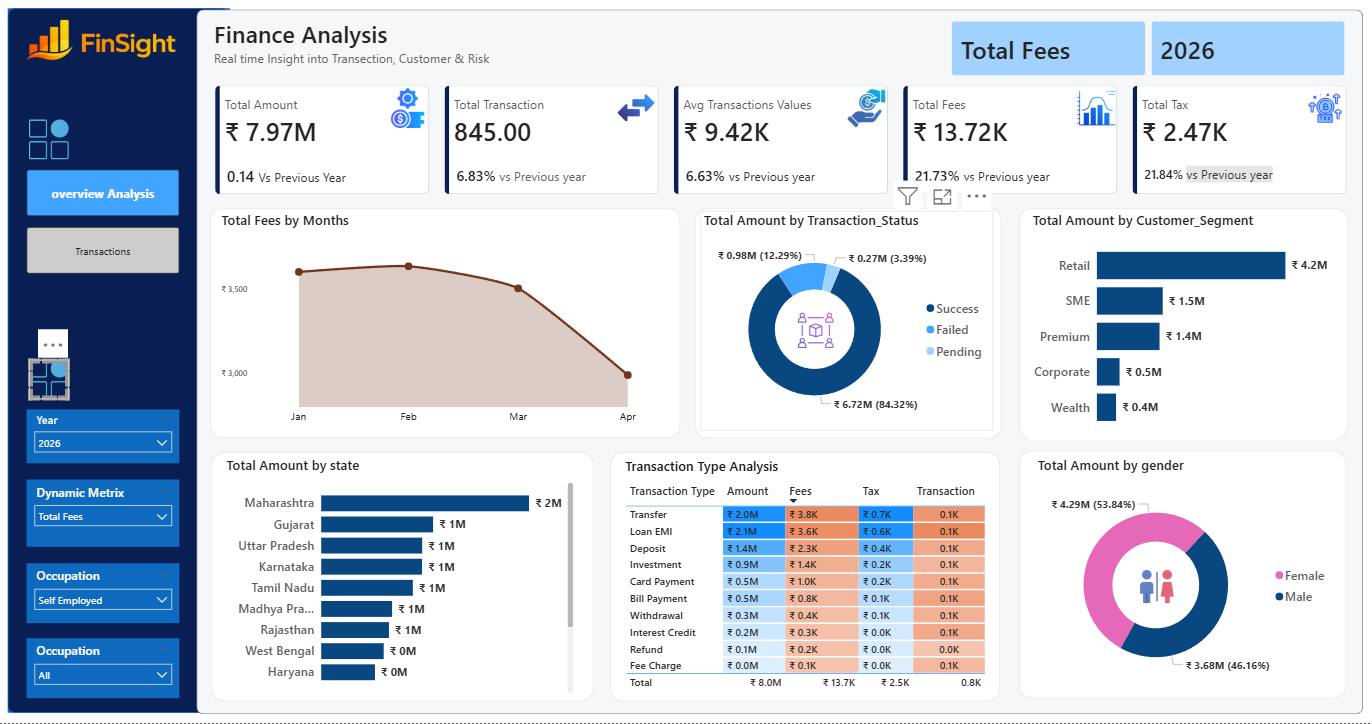

What the dashboard file says about the page in this screenshot:
{"tool":"powerbi","page":{"name":"overview Analysis","canvas":[1800,950],"ordinal":0},"visuals":[{"type":"shape","box":[11.7,15,290,921.7],"z":0},{"type":"shape","box":[258,16,1526,922],"z":1000},{"type":"image","box":[28.6,14.3,215.7,84.3],"z":2000},{"type":"cardVisual","fields":{"Data":["finance_transactions.Dashboard Title"]},"box":[276.7,20,410,78.3],"z":3000},{"type":"cardVisual","fields":{"Data":["finance_transactions.Total Amount","finance_transactions.Total Transaction","finance_transactions.Avg Transactions Values","finance_transactions.Total Fees","finance_transactions.Total Tax"]},"box":[277,109,1492.9,154.3],"z":4000},{"type":"slicer","fields":{"Values":["Calander Table.Year"]},"box":[36.7,540,200,70],"z":5000},{"type":"image","box":[509.2,119.2,52,52],"z":6000},{"type":"image","box":[807.1,120,51.4,51.4],"z":7000},{"type":"image","box":[1108.3,120,52,52],"z":8000},{"type":"image","box":[1410,119.2,52,52],"z":9000},{"type":"image","box":[1709,119,52,52],"z":10000},{"type":"slicer","fields":{"Values":["Dynamic Metrix.Dynamic Metrix"]},"box":[36.7,631.7,200,88.3],"z":11000},{"type":"shape","box":[276.7,276.7,615,300],"z":12000},{"type":"areaChart","fields":{"Y":["finance_transactions.Total Fees"],"Category":["Calander Table.Months"]},"box":[286,280,599,288],"z":13000},{"type":"cardVisual","fields":{"Data":["finance_transactions.Selected Dynamic Masure","finance_transactions.Selected Year"]},"box":[1239.5,24.5,529.8,85],"z":14000},{"type":"shape","box":[910.8,276.3,400.6,300.9],"z":15000},{"type":"donutChart","fields":{"Y":["finance_transactions.Total Amount"],"Category":["finance_transactions.transaction_status"]},"box":[917.3,279.6,382.6,287.8],"z":16000},{"type":"shape","box":[1334.4,276.7,430,301.1],"z":17000},{"type":"barChart","fields":{"Y":["finance_transactions.Total Amount"],"Category":["customers.customer_segment"]},"box":[1346.7,280,401.7,300],"z":18000},{"type":"shape","box":[278,596,500,326],"z":19000},{"type":"barChart","fields":{"Y":["finance_transactions.Total Amount"],"Category":["customers.state"]},"box":[292,600,464,316],"z":20000},{"type":"shape","box":[800,596,510,326],"z":21000},{"type":"tableEx","title":"Transaction Type Analysis","fields":{"Values":["finance_transactions.transaction_type","finance_transactions.Total Amount","finance_transactions.Total Fees","finance_transactions.Total Tax","finance_transactions.Total Transaction"]},"box":[815,601.7,485,316.7],"z":22000},{"type":"shape","box":[1334,594,428,324],"z":23000},{"type":"donutChart","fields":{"Y":["finance_transactions.Total Amount"],"Category":["customers.gender"]},"box":[1354,600,394,316],"z":24000},{"type":"image","box":[1043,411,50,51.2],"z":25000},{"type":"image","box":[1489,746,50,51.4],"z":26000},{"type":"slicer","fields":{"Values":["customers.occupation"]},"box":[36.7,740,200,78.3],"z":27000},{"type":"slicer","fields":{"Values":["finance_transactions.merchant_category"]},"box":[36.7,838.3,200,78.3],"z":28000},{"type":"pageNavigator","box":[36,226,200,136],"z":29000},{"type":"image","box":[40,160,52,52],"z":30000},{"type":"image","box":[40,474,52,52],"z":31000}]}

Visuals, with their boxes on the page's 1800x950 design canvas (x1, y1, x2, y2). These are canvas units, not pixel positions in the 1372x724 screenshot, which may show the page scaled, cropped or inside an application window:
shape: (left=12, top=15, right=302, bottom=937)
shape: (left=258, top=16, right=1784, bottom=938)
image: (left=29, top=14, right=244, bottom=99)
cardVisual - finance_transactions.Dashboard Title: (left=277, top=20, right=687, bottom=98)
cardVisual - finance_transactions.Total Amount x finance_transactions.Total Transaction: (left=277, top=109, right=1770, bottom=263)
slicer - Calander Table.Year: (left=37, top=540, right=237, bottom=610)
image: (left=509, top=119, right=561, bottom=171)
image: (left=807, top=120, right=858, bottom=171)
image: (left=1108, top=120, right=1160, bottom=172)
image: (left=1410, top=119, right=1462, bottom=171)
image: (left=1709, top=119, right=1761, bottom=171)
slicer - Dynamic Metrix.Dynamic Metrix: (left=37, top=632, right=237, bottom=720)
shape: (left=277, top=277, right=892, bottom=577)
areaChart - finance_transactions.Total Fees x Calander Table.Months: (left=286, top=280, right=885, bottom=568)
cardVisual - finance_transactions.Selected Dynamic Masure x finance_transactions.Selected Year: (left=1240, top=24, right=1769, bottom=110)
shape: (left=911, top=276, right=1311, bottom=577)
donutChart - finance_transactions.Total Amount x finance_transactions.transaction_status: (left=917, top=280, right=1300, bottom=567)
shape: (left=1334, top=277, right=1764, bottom=578)
barChart - finance_transactions.Total Amount x customers.customer_segment: (left=1347, top=280, right=1748, bottom=580)
shape: (left=278, top=596, right=778, bottom=922)
barChart - finance_transactions.Total Amount x customers.state: (left=292, top=600, right=756, bottom=916)
shape: (left=800, top=596, right=1310, bottom=922)
"Transaction Type Analysis" tableEx: (left=815, top=602, right=1300, bottom=918)
shape: (left=1334, top=594, right=1762, bottom=918)
donutChart - finance_transactions.Total Amount x customers.gender: (left=1354, top=600, right=1748, bottom=916)
image: (left=1043, top=411, right=1093, bottom=462)
image: (left=1489, top=746, right=1539, bottom=797)
slicer - customers.occupation: (left=37, top=740, right=237, bottom=818)
slicer - finance_transactions.merchant_category: (left=37, top=838, right=237, bottom=917)
pageNavigator: (left=36, top=226, right=236, bottom=362)
image: (left=40, top=160, right=92, bottom=212)
image: (left=40, top=474, right=92, bottom=526)
